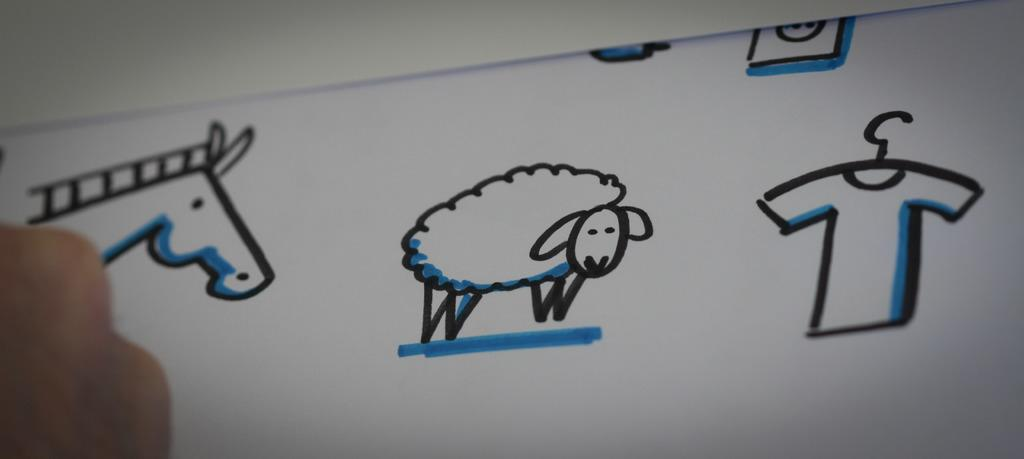Chair: (398, 161, 653, 346)
